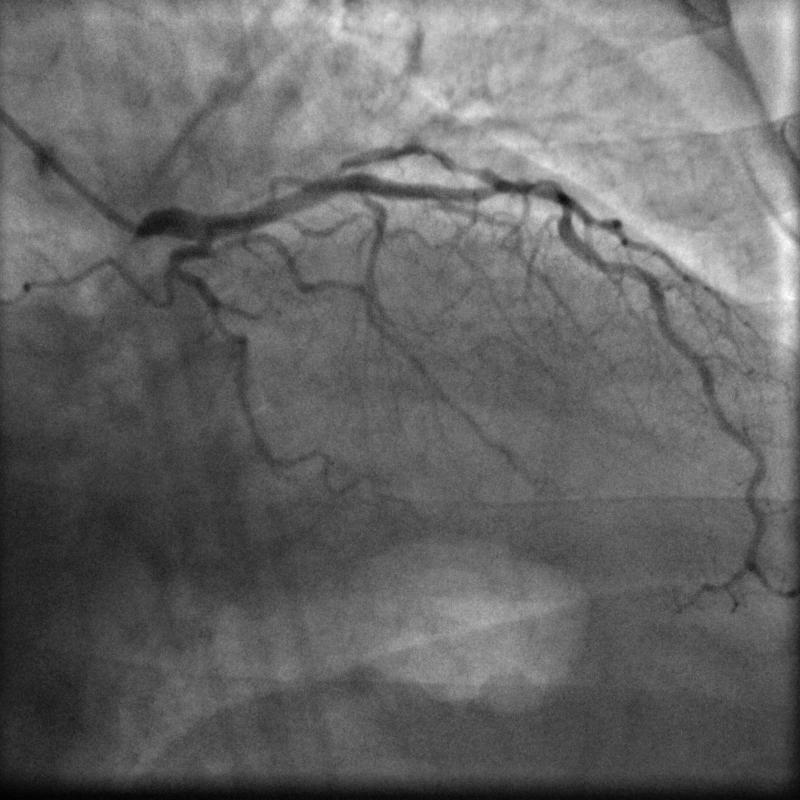Stenosis: (486, 178, 576, 220)
